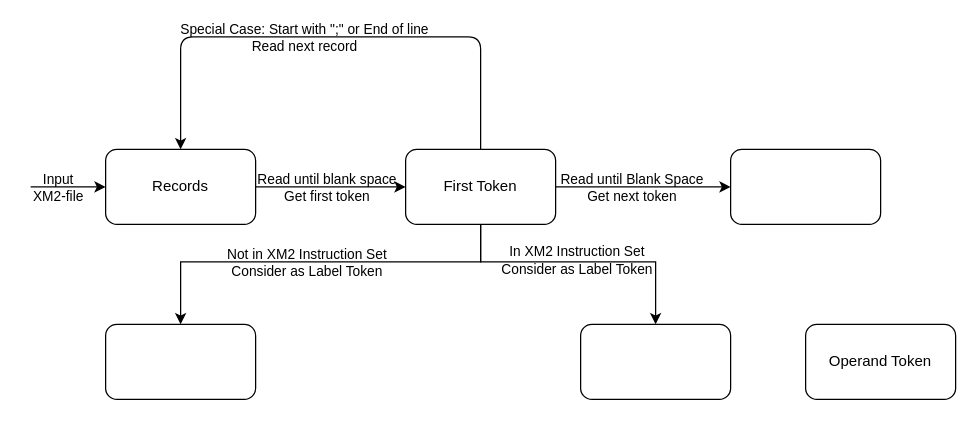
This 978x421 diagram has some shape labels left out. The shapes that lost their labels are listed below. From the top down, each one's centre as x and y in pixels, then its label:
At pixel 180 361: "Label Token".
At pixel 655 361: "Inst/Dir Token".
